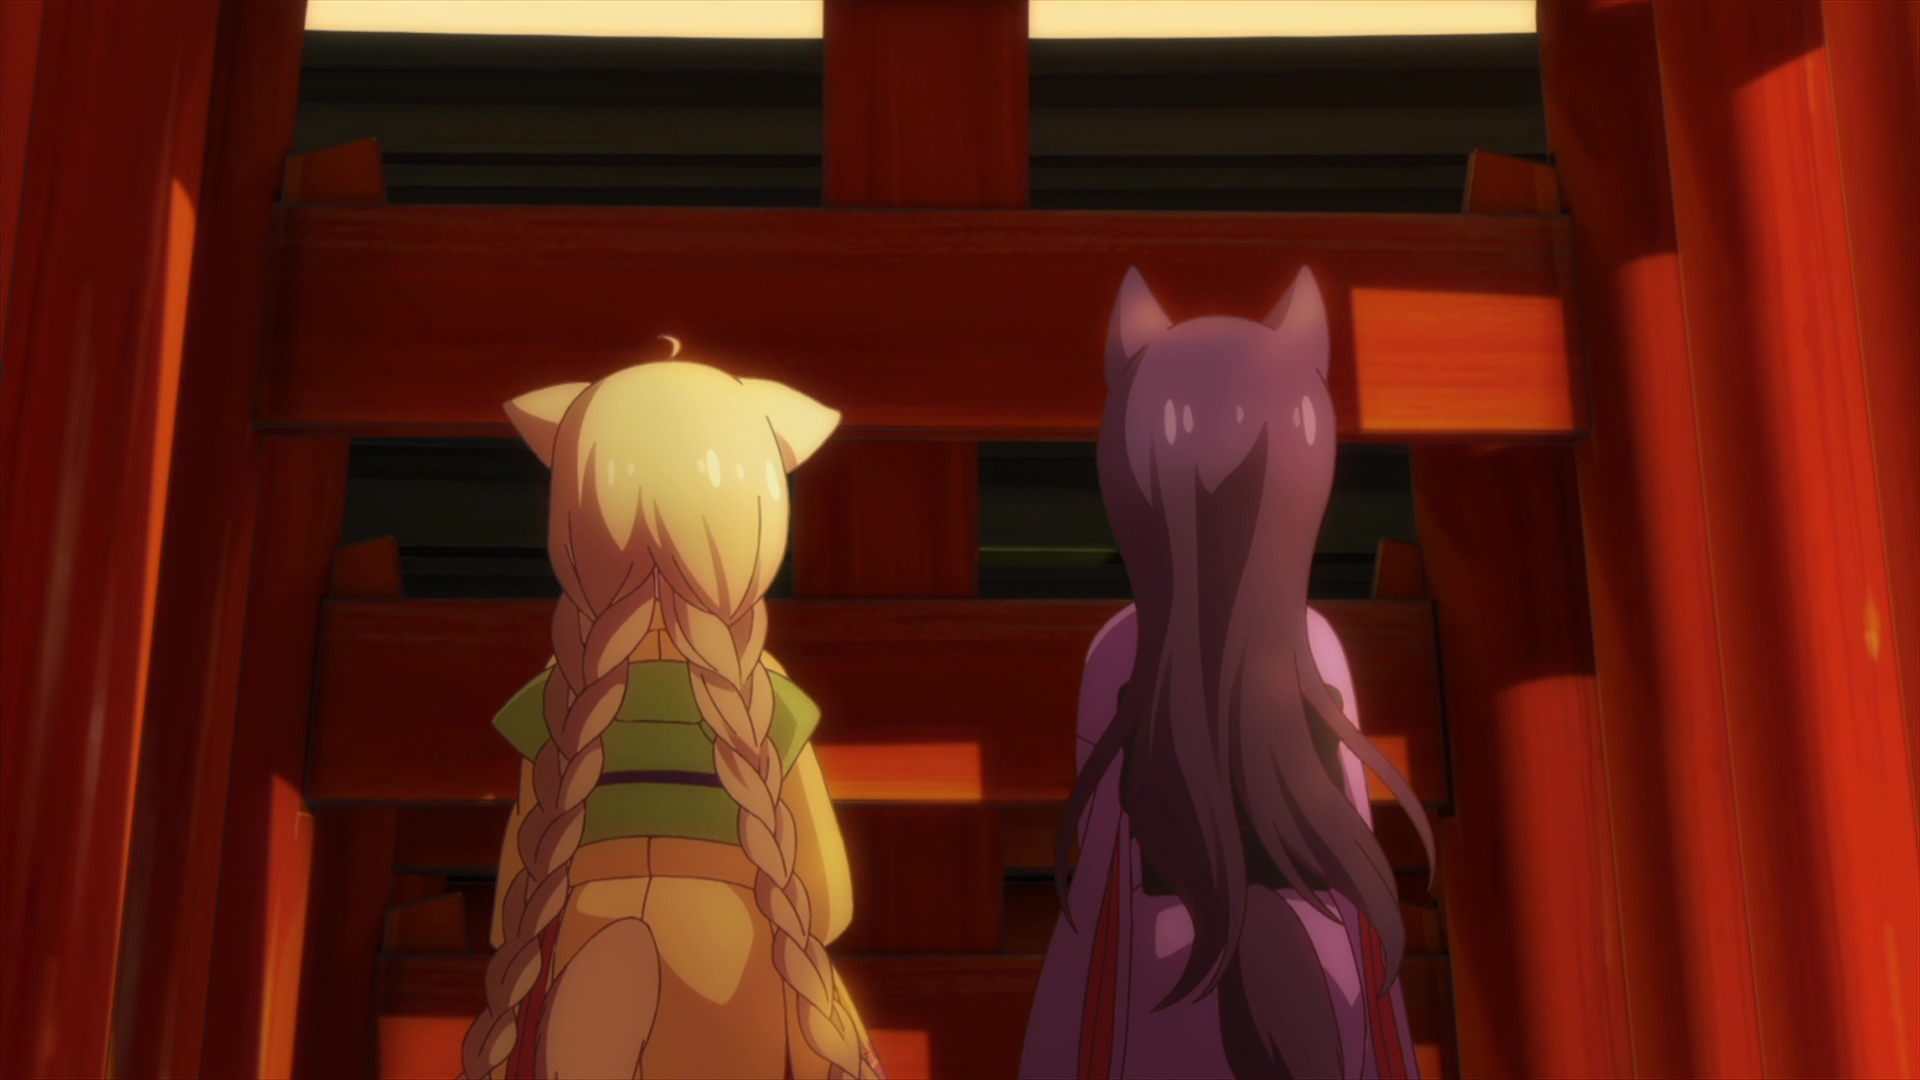柚: (462, 331, 880, 1080)
皋: (1017, 260, 1435, 1080)
